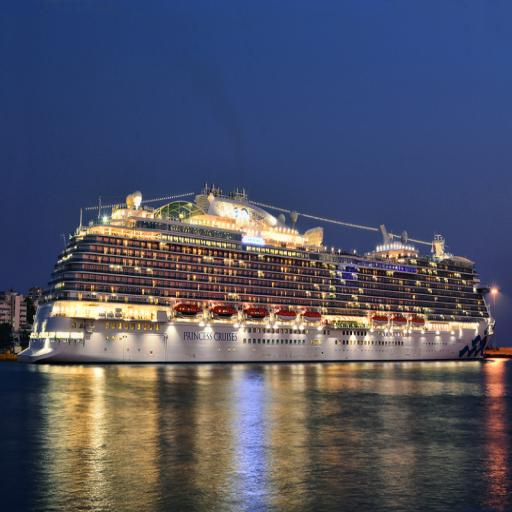cruises: (15, 181, 500, 372)
